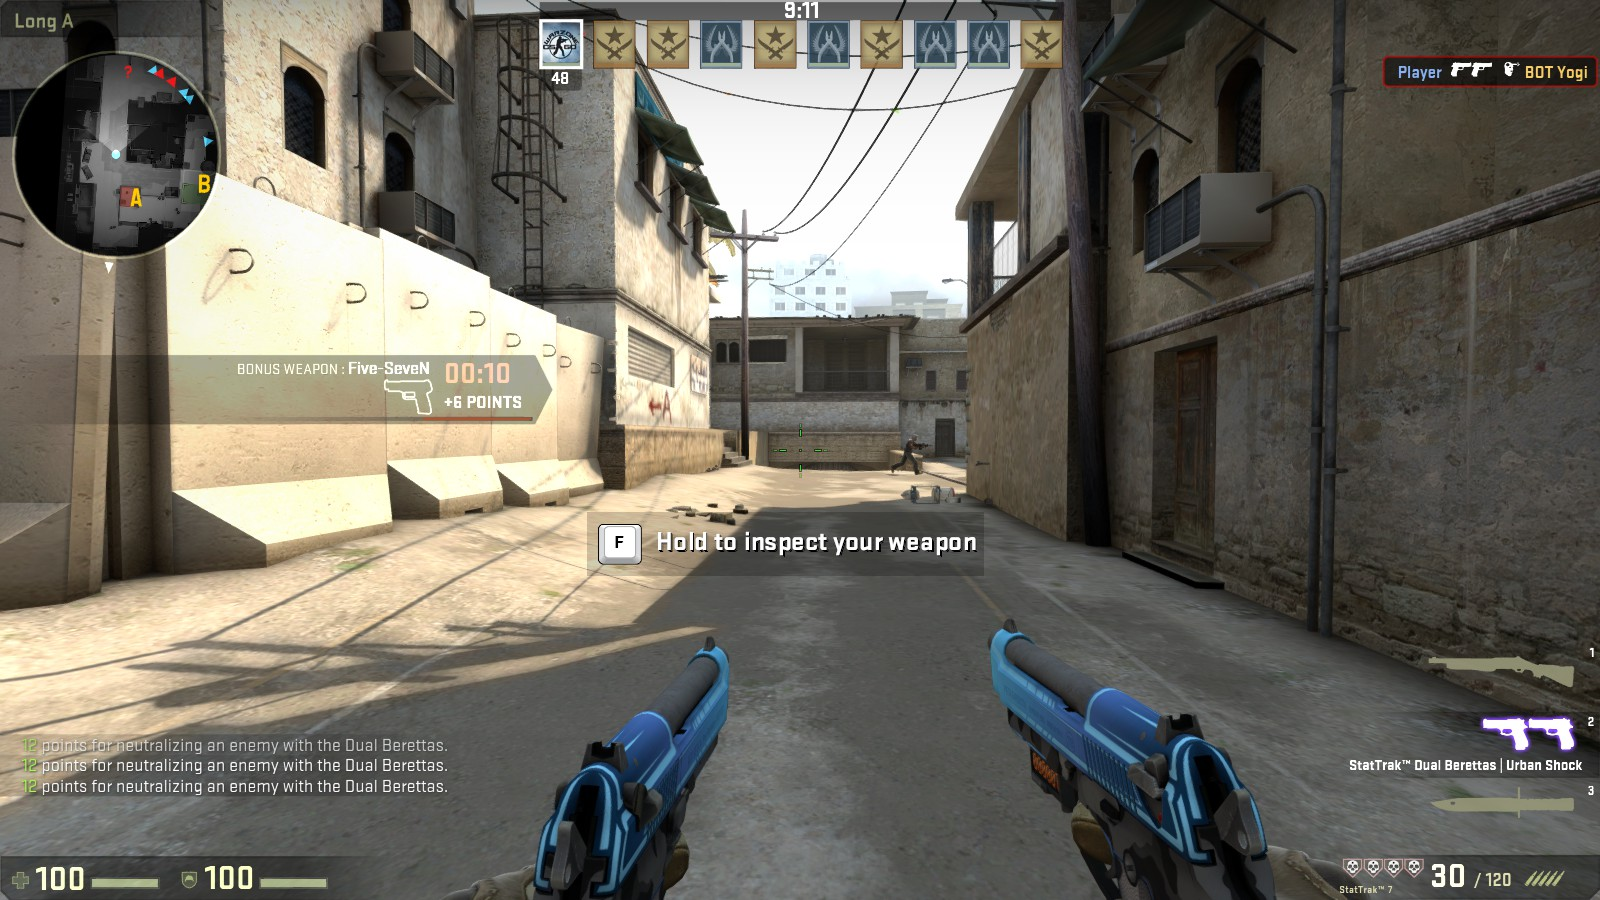t: (899, 434, 923, 475)
